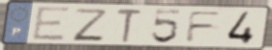4: (225, 10, 256, 46)
5: (150, 8, 183, 45)
E: (30, 5, 72, 43)
F: (184, 11, 225, 44)
T: (115, 8, 145, 44)
Z: (71, 7, 108, 43)
